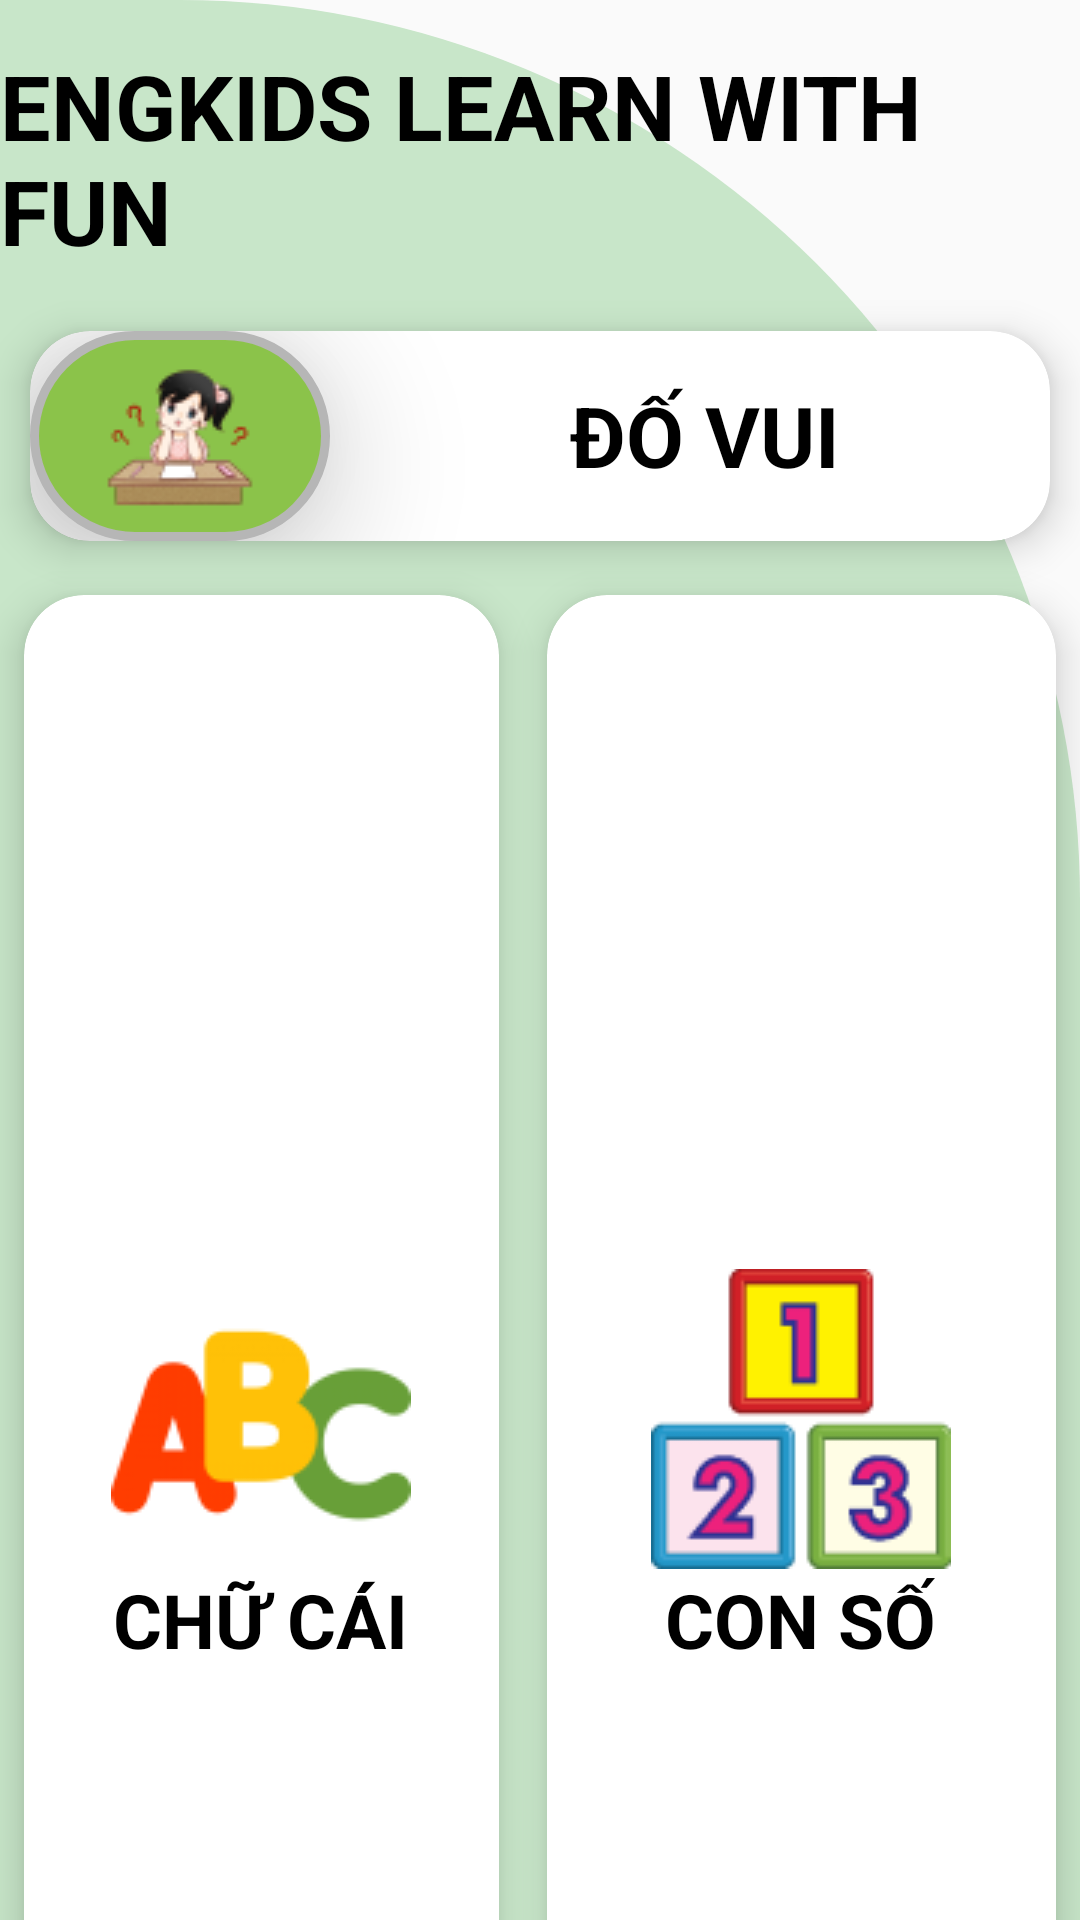

Named icons in this screenshot (1080×1920) and their bounding boxes, {"left": x1, "top": y1, "right": x2, "bottom": y2}:
question: {"left": 30, "top": 331, "right": 321, "bottom": 541}
